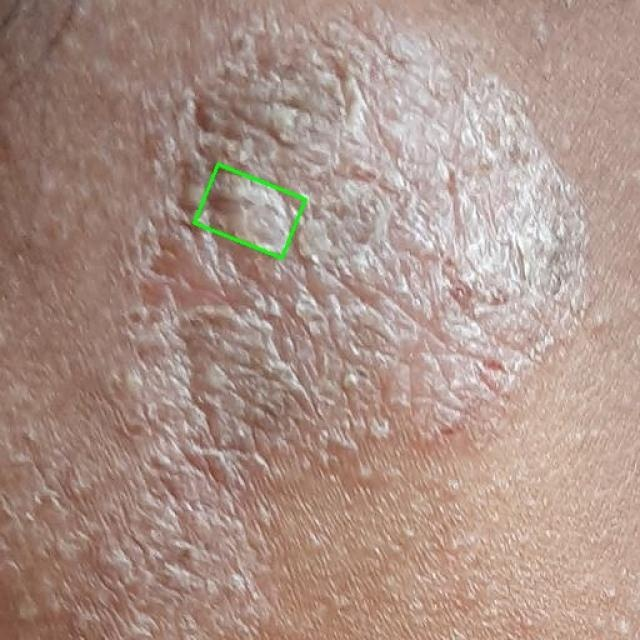Contact Dermatitis: (194, 165, 305, 259)
